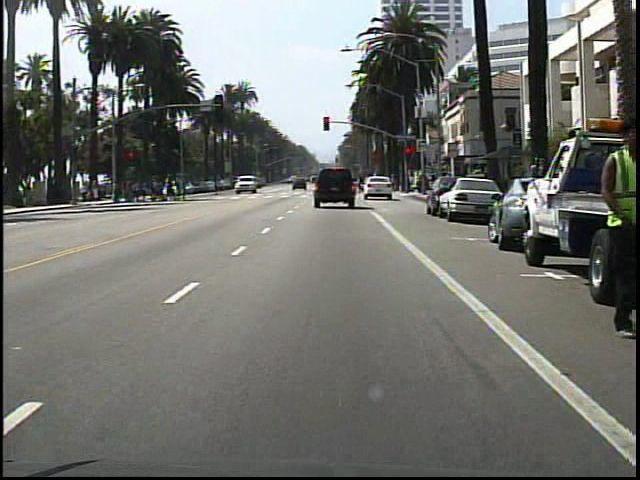person: (590, 119, 637, 337), (207, 172, 227, 201)
